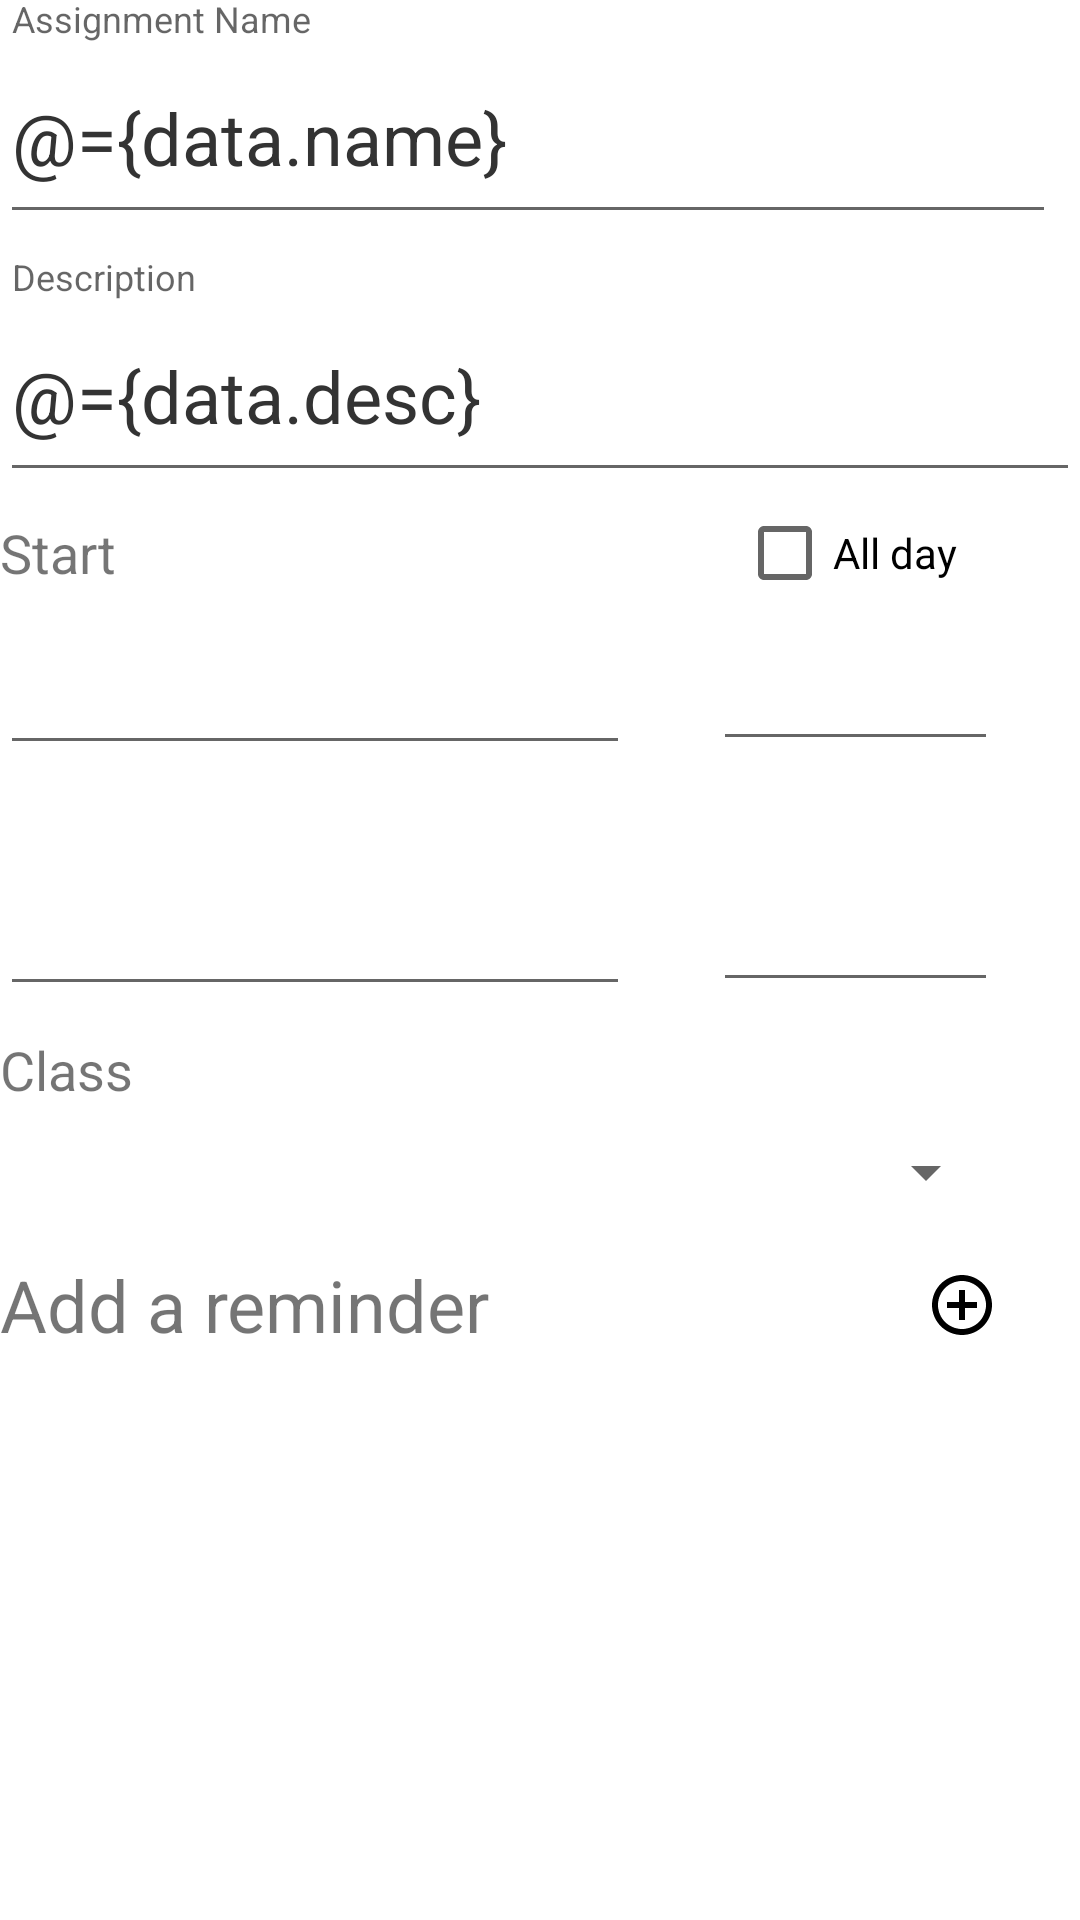

Icon bounding boxes for this 1080px×1920px phone screenshot, format (left=x1, top=y1, right=x2, bottom=y2):
add circle: (left=932, top=1275, right=992, bottom=1335)
